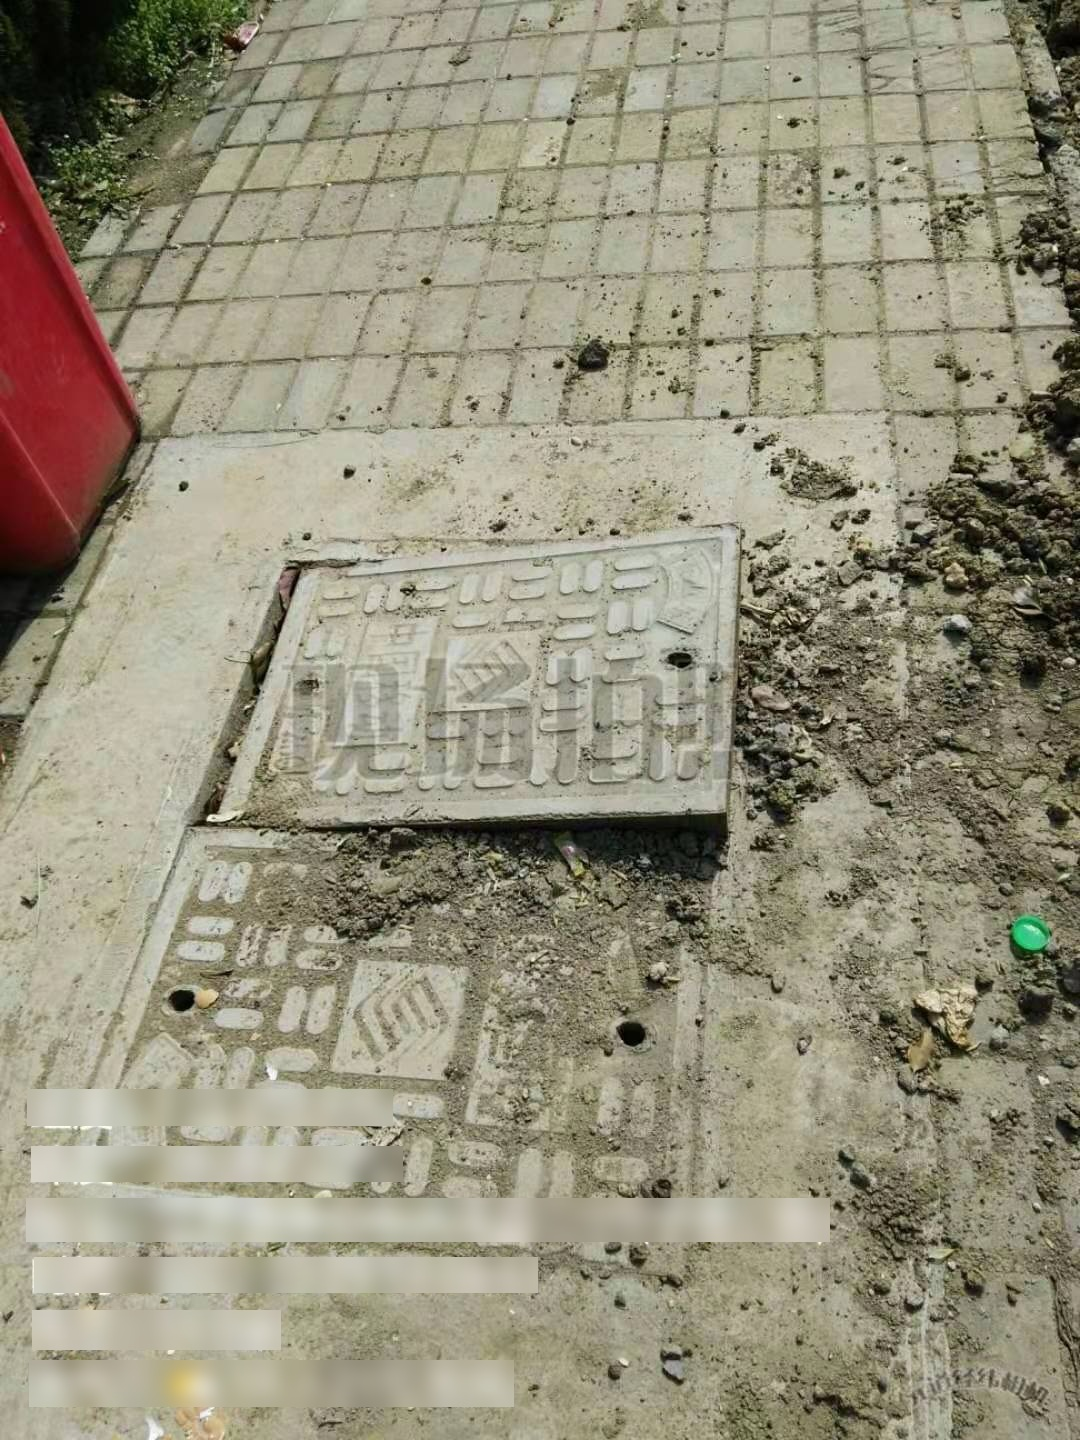uncovered: (47, 525, 743, 1302)
